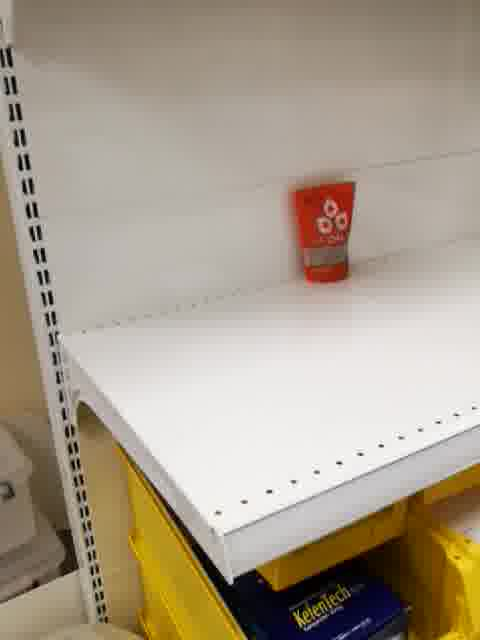whitechia: (291, 177, 359, 287)
